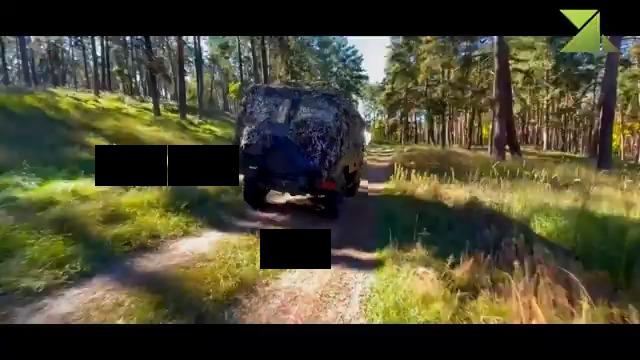MIL_HMMWV: (230, 82, 367, 224)
